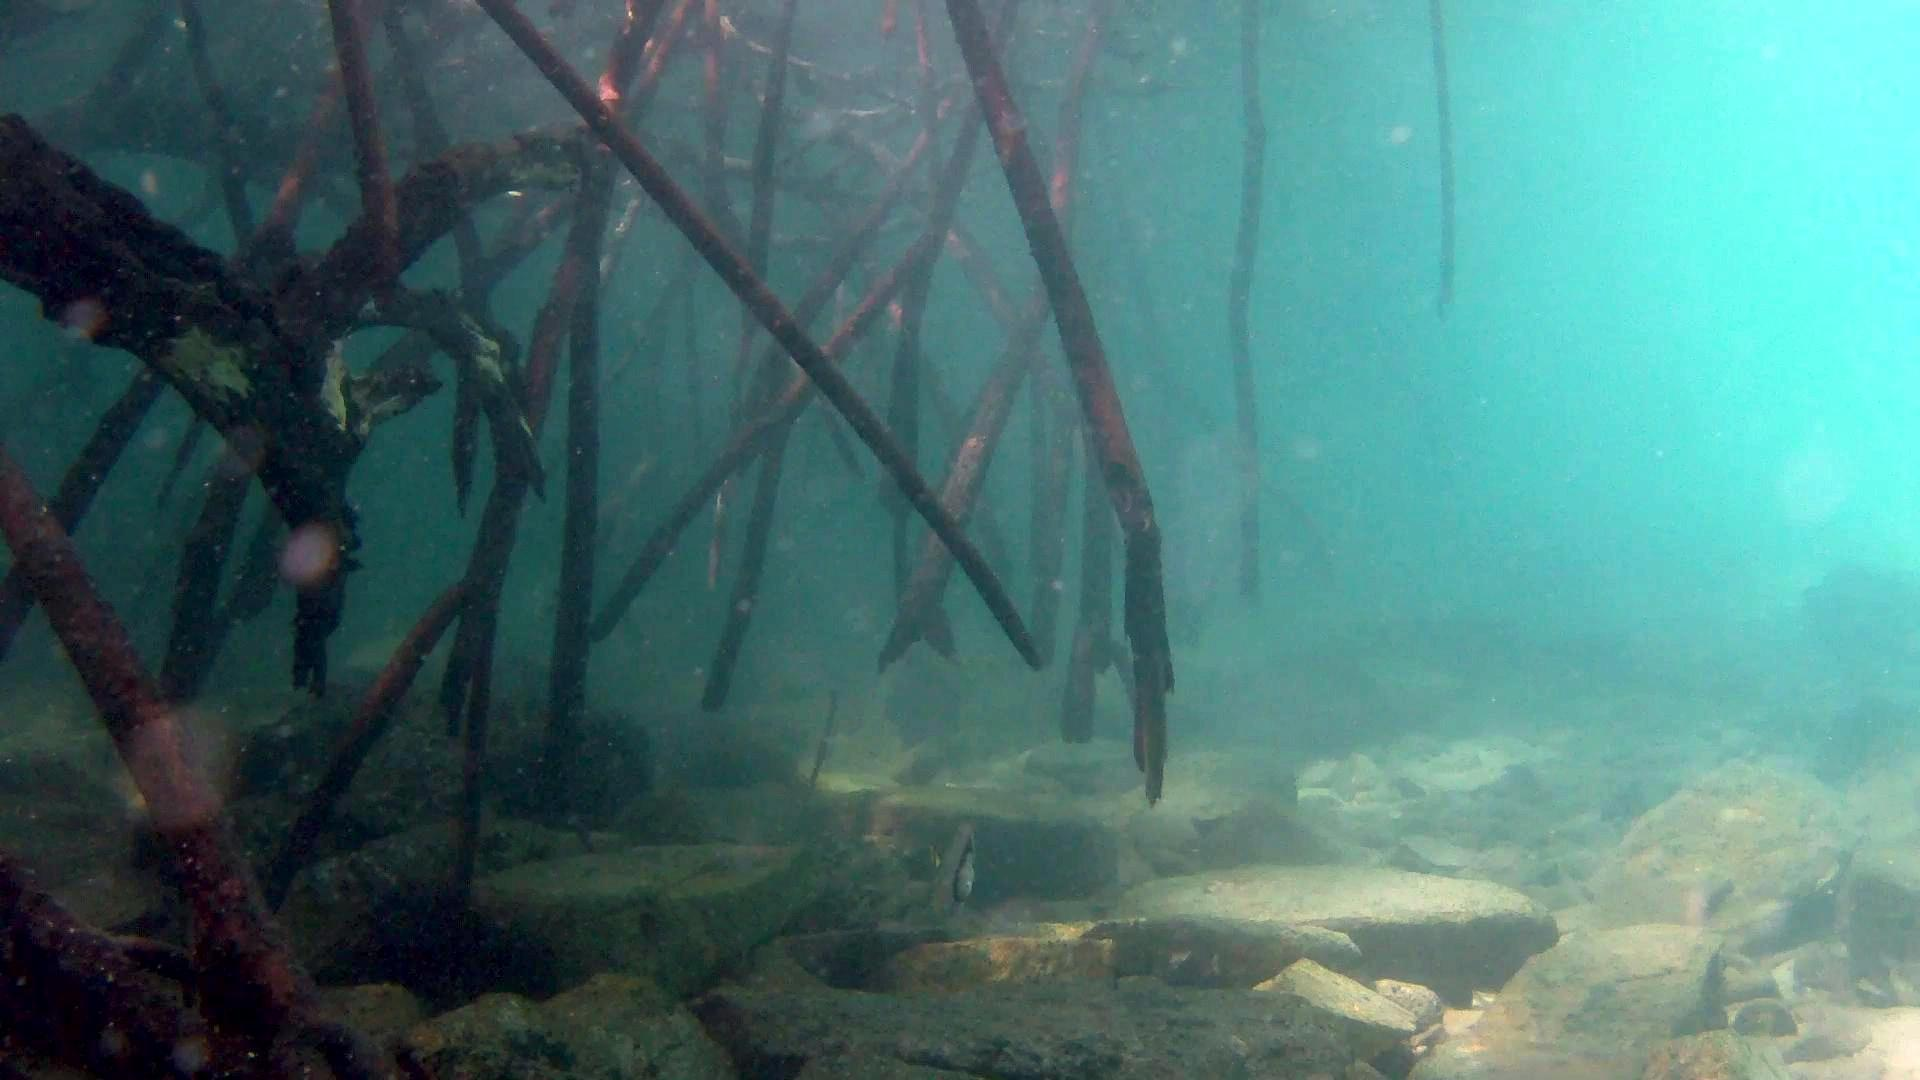chaetodon vagabundus: (922, 811, 984, 936)
